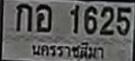1: (70, 4, 79, 33)
2: (99, 5, 113, 34)
5: (116, 6, 130, 35)
6: (83, 5, 96, 33)
A01: (16, 2, 32, 31)
A43: (35, 3, 51, 31)
NMA: (29, 40, 106, 61)
